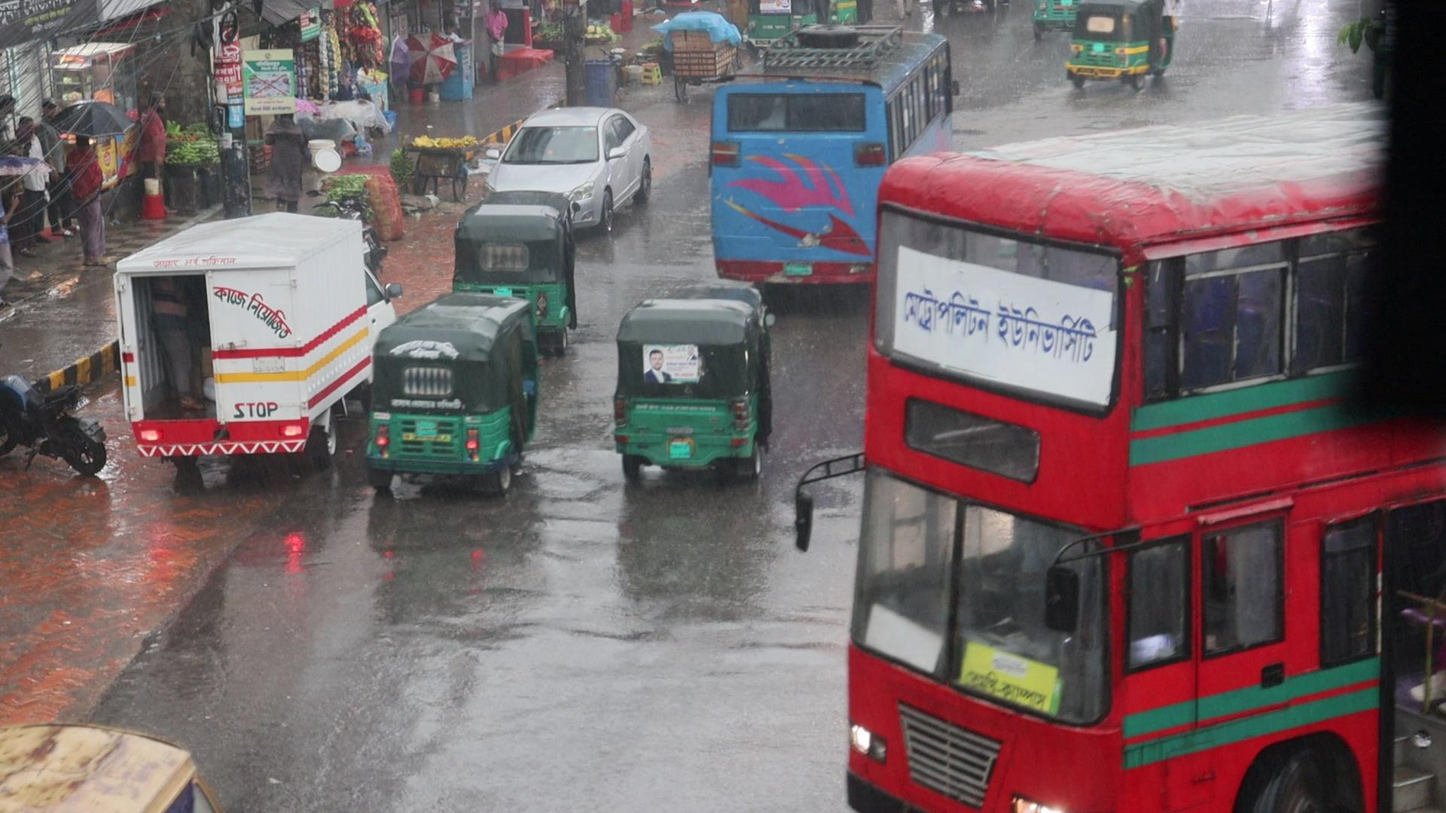Bus: (791, 132, 1408, 813), (703, 21, 888, 283)
Car: (482, 104, 653, 199)
